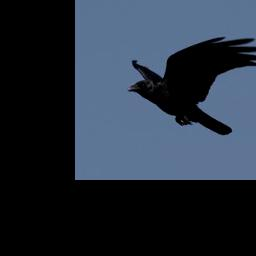Crow: (126, 35, 256, 135)
